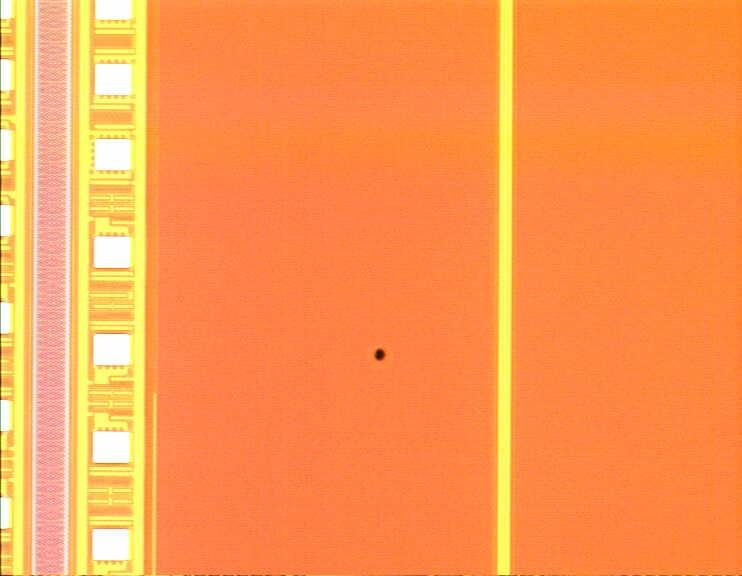PIQ PARTICLE: (370, 345, 390, 365)
